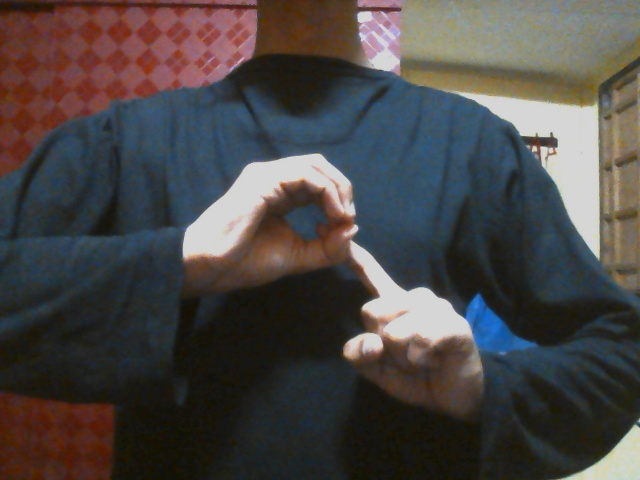Q: (196, 151, 481, 424)
